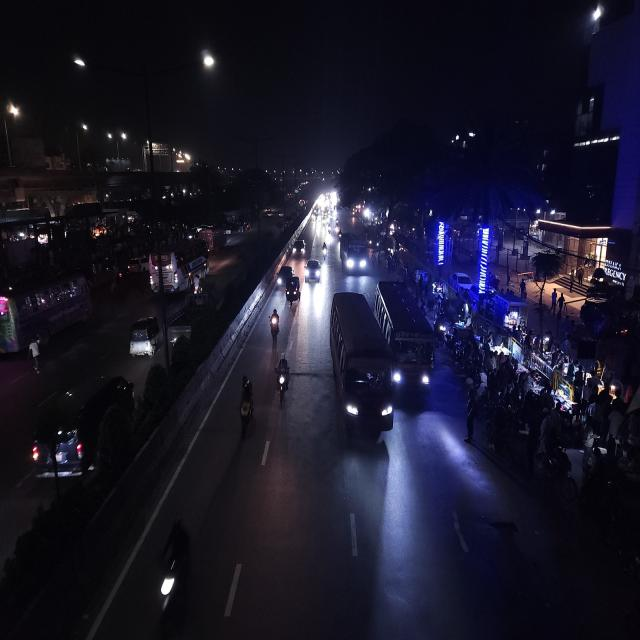bus: (328, 289, 394, 442), (376, 278, 438, 411), (0, 271, 90, 353), (147, 241, 211, 298), (338, 227, 368, 277), (199, 225, 222, 252)
car: (26, 366, 137, 488), (126, 312, 162, 361), (274, 262, 296, 292), (451, 270, 473, 297), (304, 256, 322, 286), (290, 236, 308, 260)
cng: (285, 274, 301, 309)
motorcycle: (151, 513, 194, 638), (234, 372, 258, 439), (273, 352, 292, 402), (267, 307, 283, 346), (320, 238, 330, 260)
pedestrian: (462, 384, 483, 442), (25, 337, 44, 375), (387, 250, 394, 271)
pickup_van: (168, 304, 208, 346)
